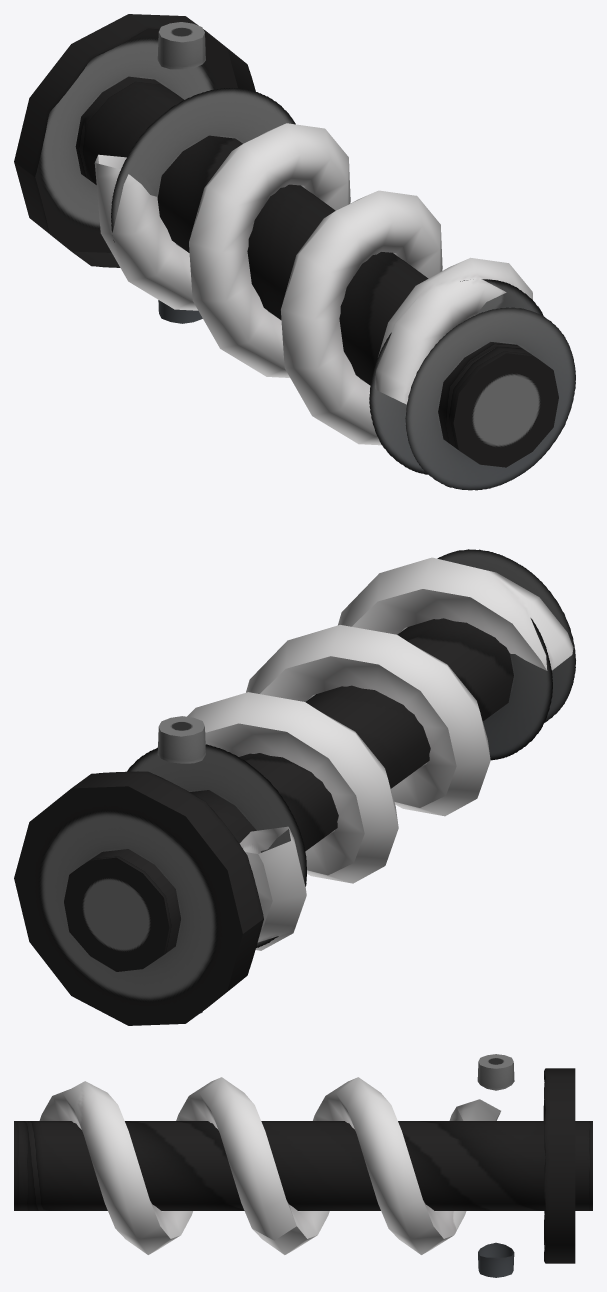
Rendered from obj_interactive_suspensionoffroad_03_off.fbx.
The picture shows the model from 3 angles, top to bottom: view 1: azimuth 30°, elevation 25°; view 2: azimuth 150°, elevation 25°; view 3: azimuth 270°, elevation 25°; orthographic projection. The views are drawn at different scales.
Parts seen in each view (by area): view 1: obj_interactive_suspensionoffroad_03_off; view 2: obj_interactive_suspensionoffroad_03_off; view 3: obj_interactive_suspensionoffroad_03_off.
Part boxes in pixels (bbox=[...]): obj_interactive_suspensionoffroad_03_off: bbox=[14, 14, 575, 490]; obj_interactive_suspensionoffroad_03_off: bbox=[14, 549, 575, 1025]; obj_interactive_suspensionoffroad_03_off: bbox=[14, 1054, 592, 1277].
Size of the model in its own units: 1.09 by 1.29 by 3.23.
